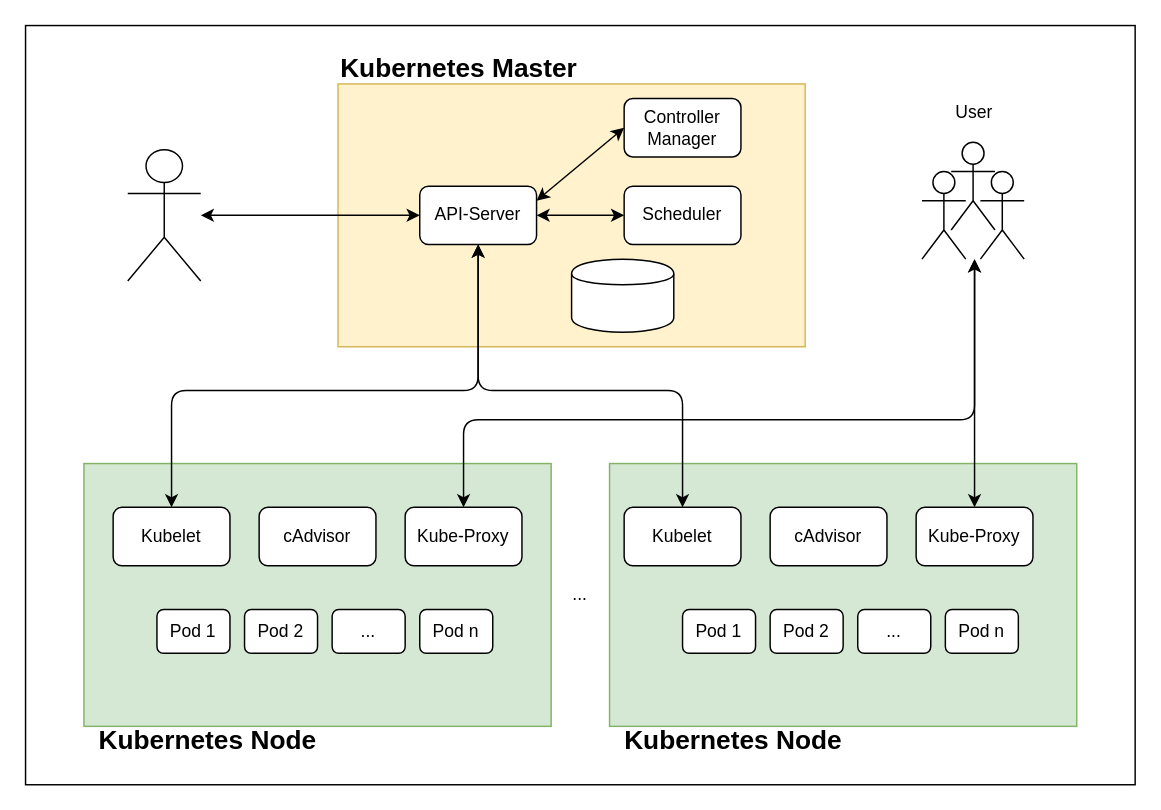
Image size: 1161x810. Some labels were removed from this diagram. Here are the shapes that lost their labels. From the top down, the box of each, then its label:
(126, 148, 201, 281): Developer / Operator
(570, 258, 674, 332): etcd
